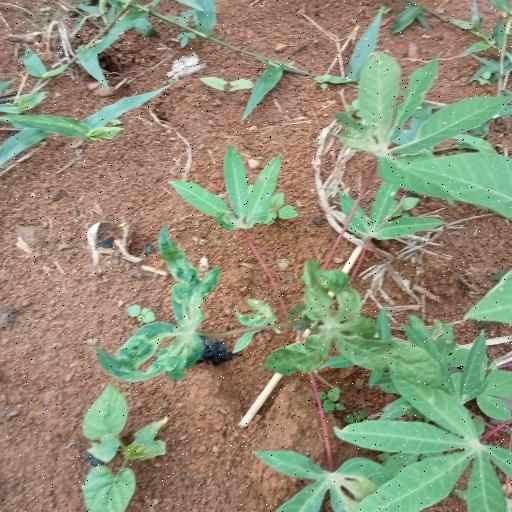Cassava_Mosaic: (354, 54, 512, 208), (334, 381, 509, 512), (283, 267, 439, 389), (107, 257, 218, 383), (180, 146, 300, 229)
